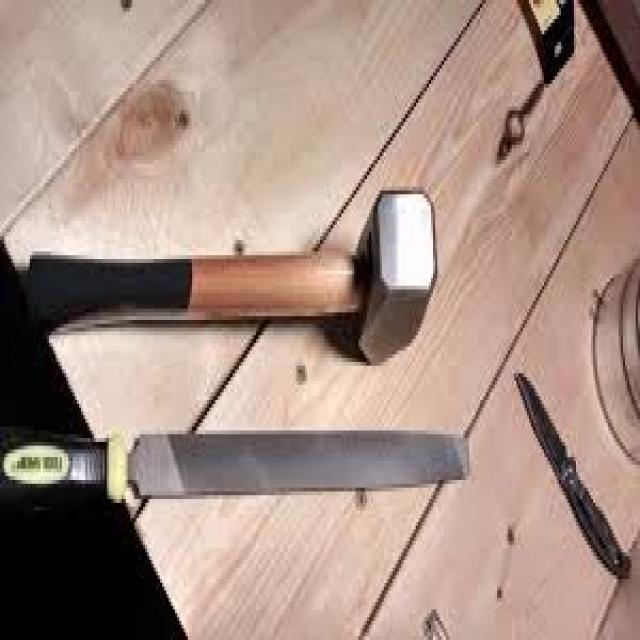hammer: (19, 177, 450, 379)
